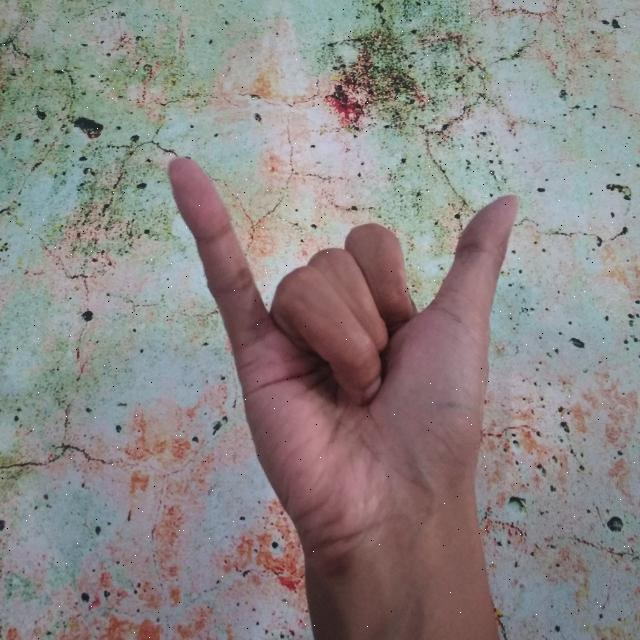Y: (158, 145, 528, 640)
